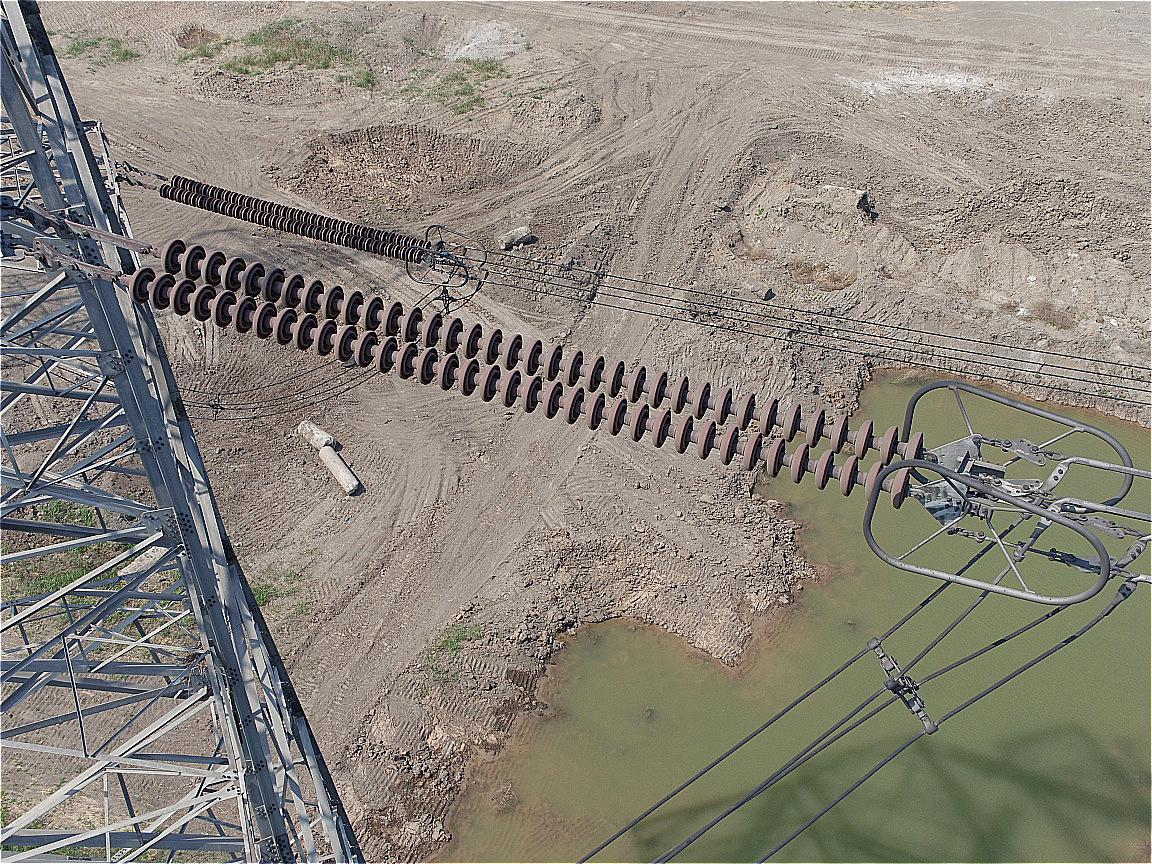insultor1: (110, 228, 946, 523)
insultor2: (158, 166, 439, 269)
